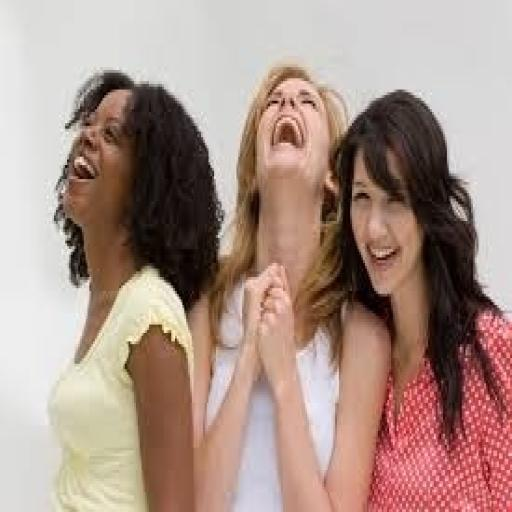laughing: (39, 50, 505, 506)
